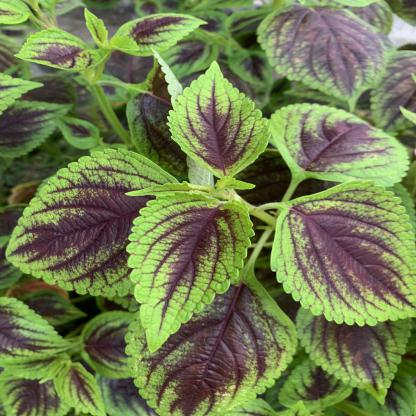Bunga Coleus: (33, 10, 411, 403)
